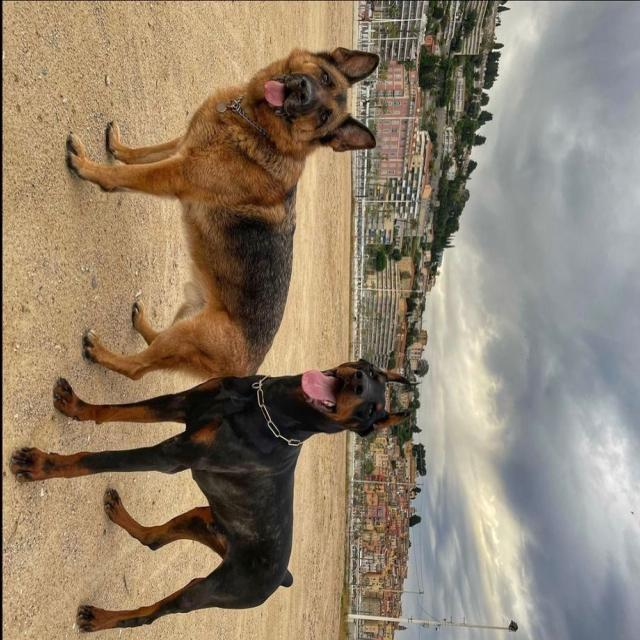Dogs: (61, 32, 386, 402), (9, 350, 421, 638)
